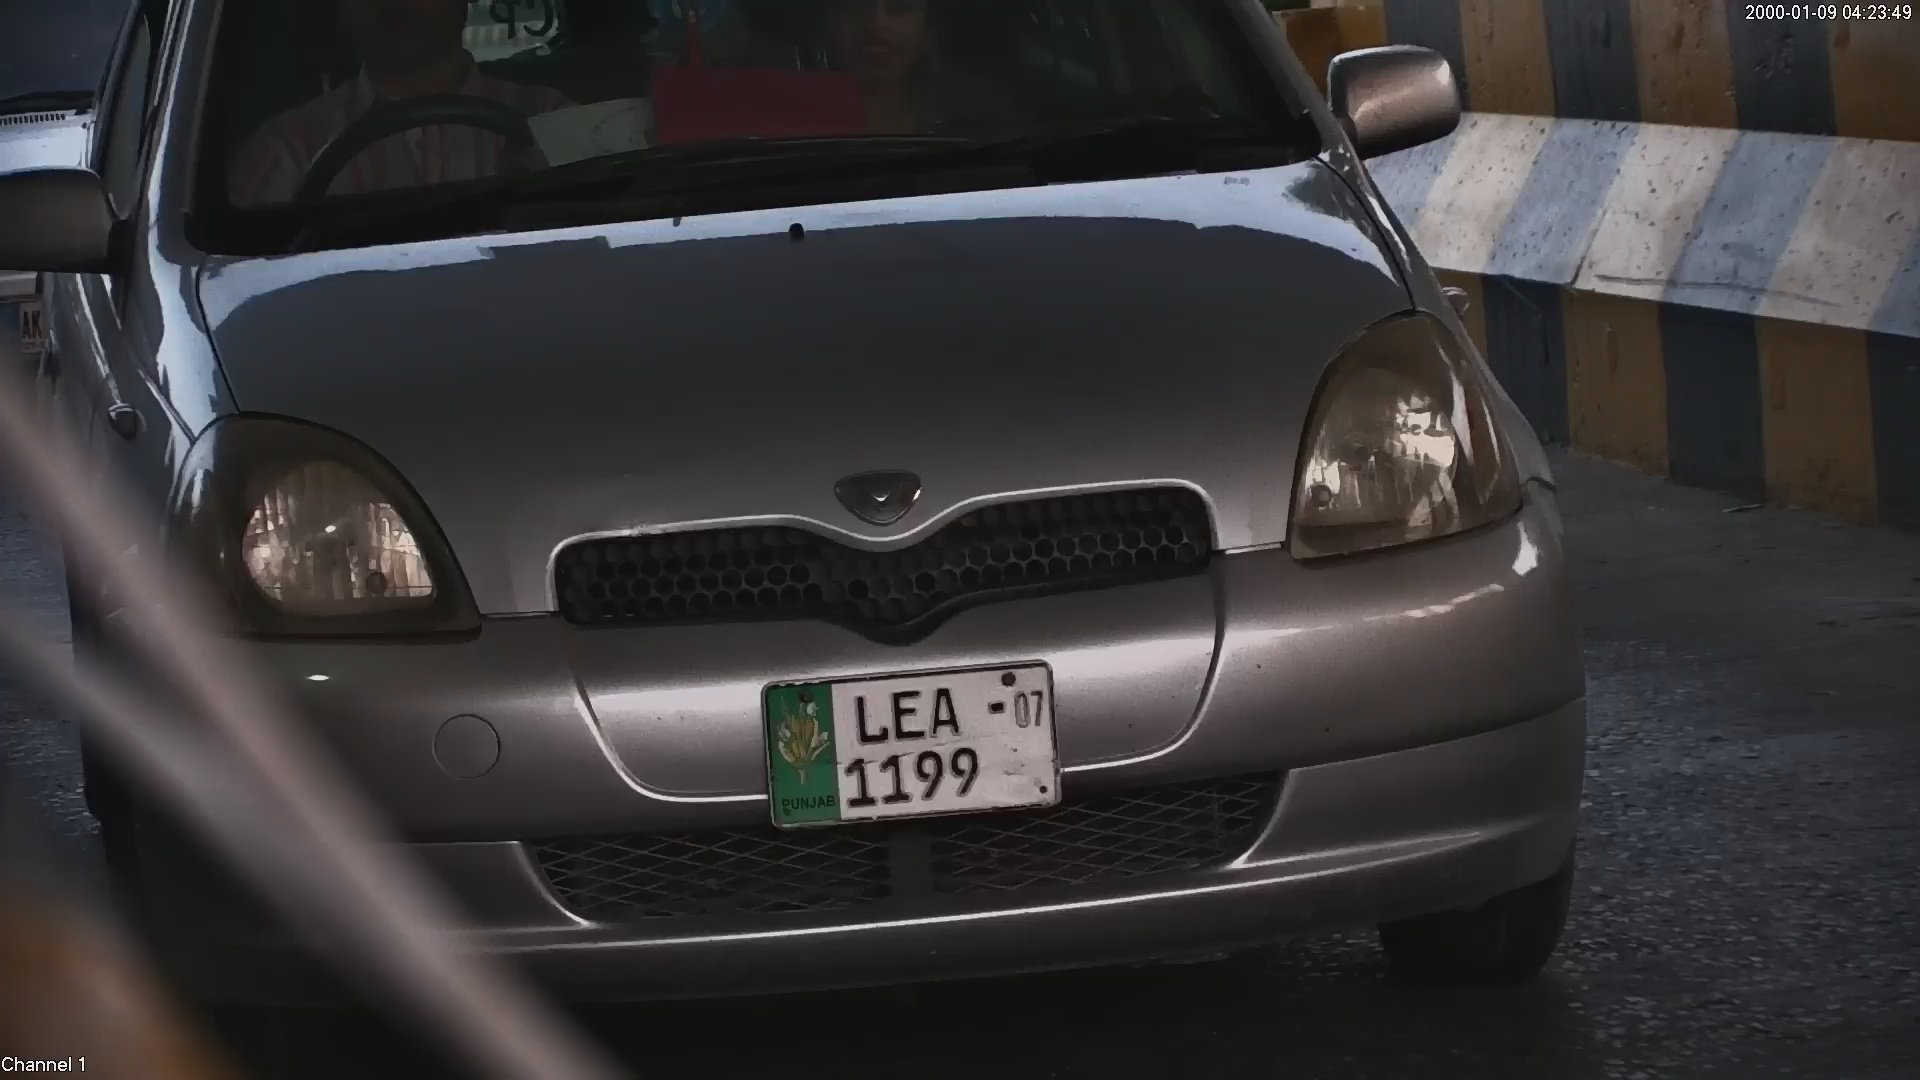Number_Plate: (737, 649, 1078, 831)
